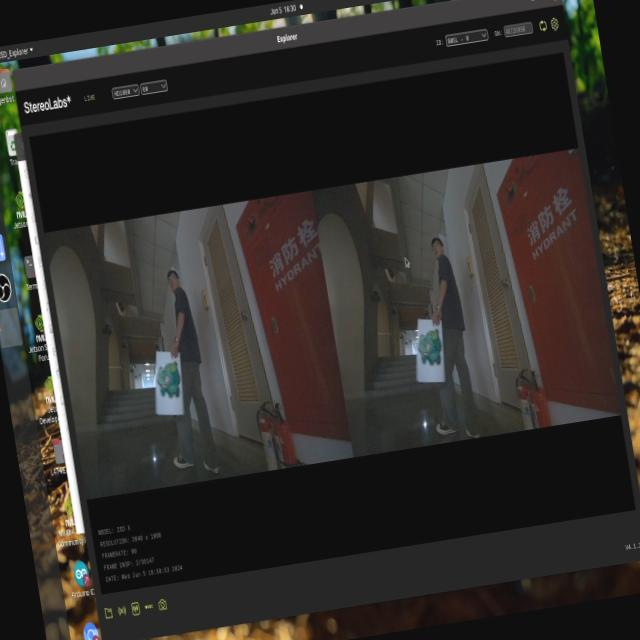green: (408, 317, 442, 368), (156, 358, 181, 400)
